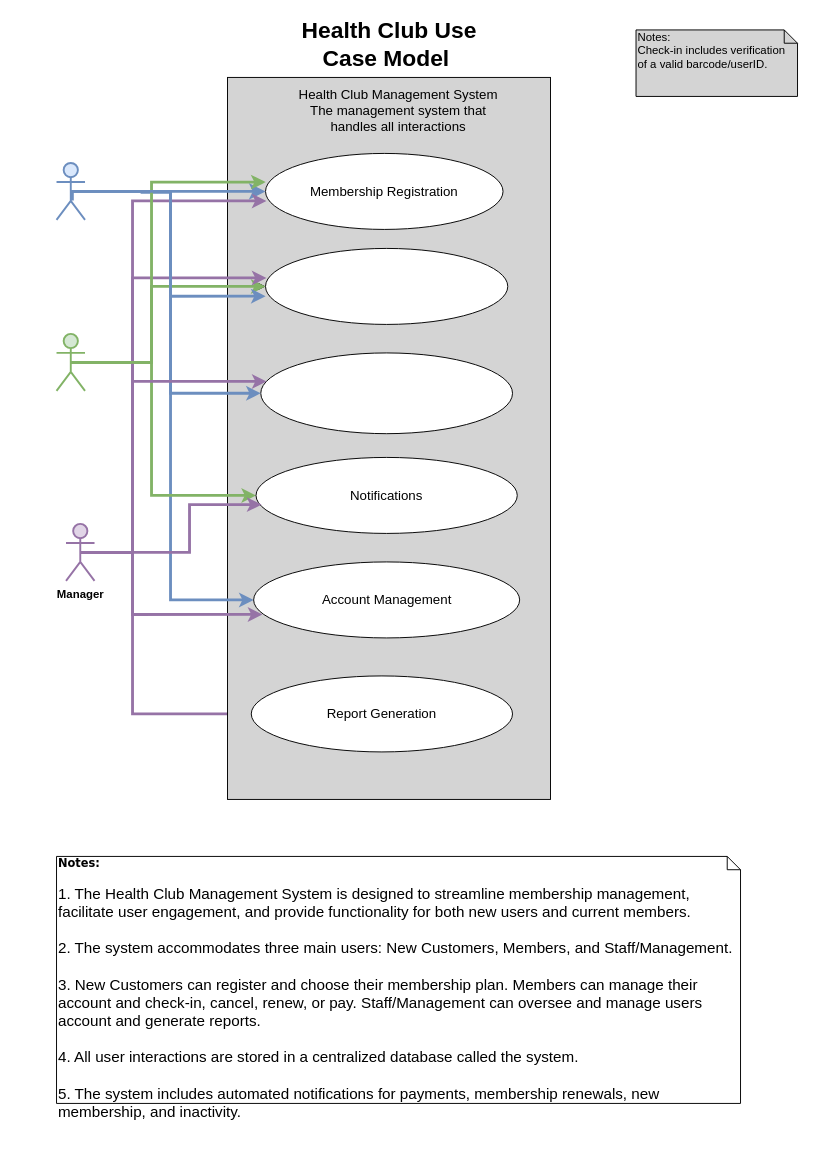
The diagram is 814 pixels wide and 1151 high, and some of its shapes have lost their labels. The shapes that lost their labels are listed below. From the top down, each one's centre as x and y in pixels, then its label:
At [70,191]: "User(New Customer or Member)".
At [386,285]: "User Check-in".
At [70,361]: "(Staff Member)".
At [386,393]: "Membership Renewal/Cancellation".
